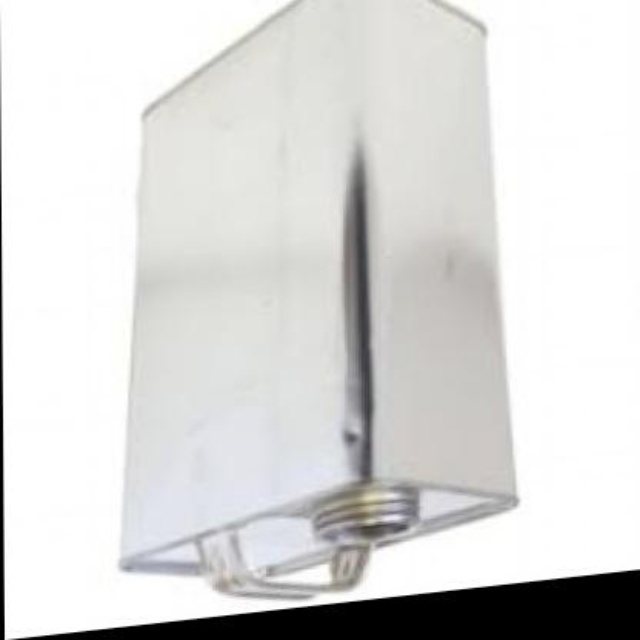trash: (122, 0, 515, 595)
